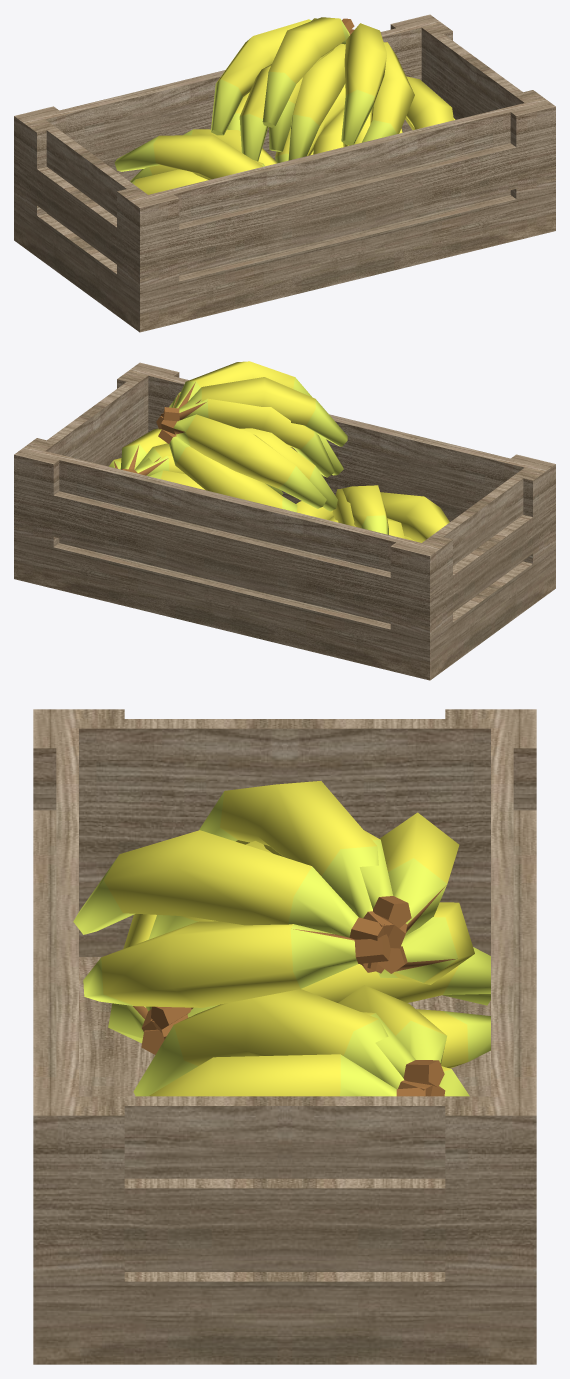
File: pisangperbox.fbx
3 views of the same model, one above another, from view 1: azimuth 30°, elevation 25°; view 2: azimuth 150°, elevation 25°; view 3: azimuth 270°, elevation 25° (orthographic). The views are drawn at different scales.
Parts seen in each view (by area): view 1: Gruppe#26.012; view 2: Gruppe#26.012; view 3: Gruppe#26.012.
Boxes of the visible parts, box(x1,y1,x2,y2) form: Gruppe#26.012: box(14, 14, 555, 332); Gruppe#26.012: box(14, 361, 555, 680); Gruppe#26.012: box(33, 709, 536, 1364).
Bounding box in the file's own units: 67.2 × 31.11 × 35.2.
